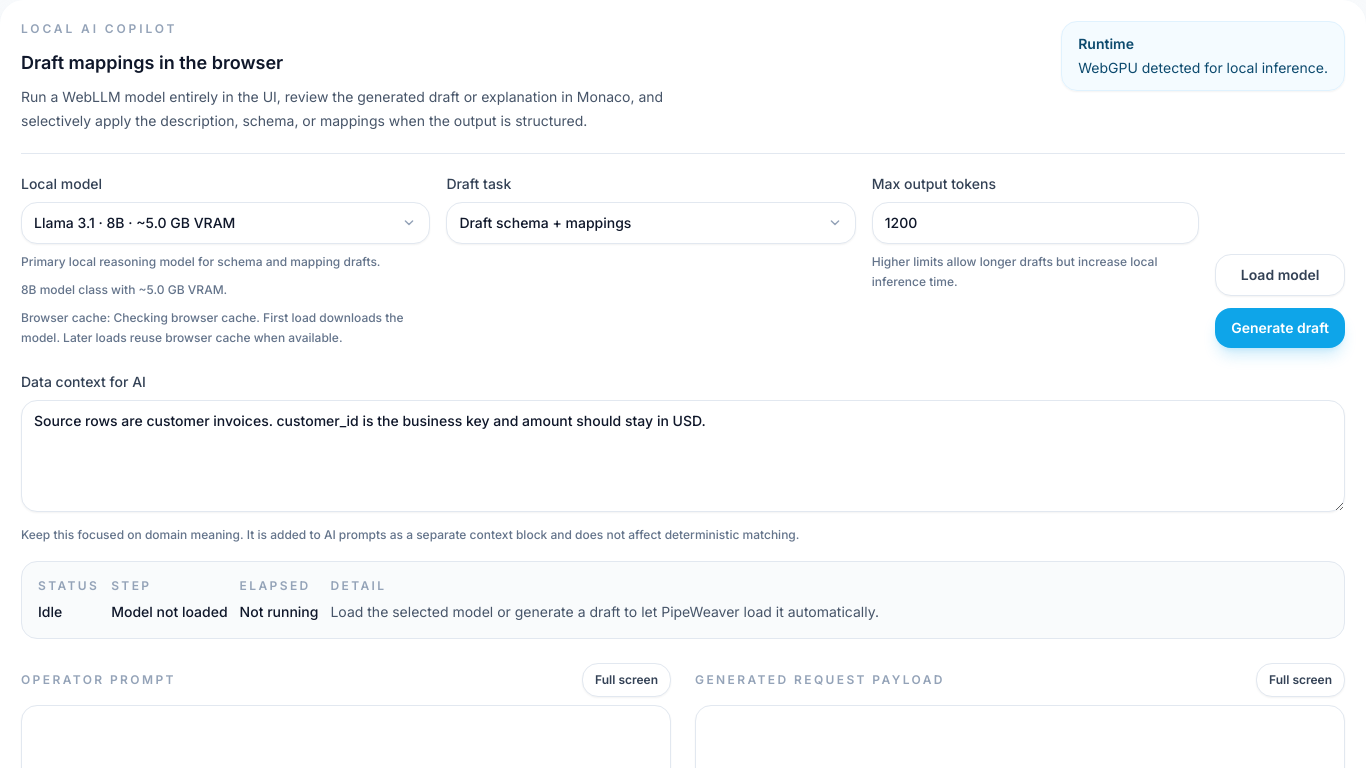
formats long elapsed generation durations in minutes and seconds
What coordinates should you click on to do the following:
click the button with test id "ai-generate-button"
I would click on:
 (1280, 328)
Its box is [1215,308,1345,348].
Wait 125000 ms
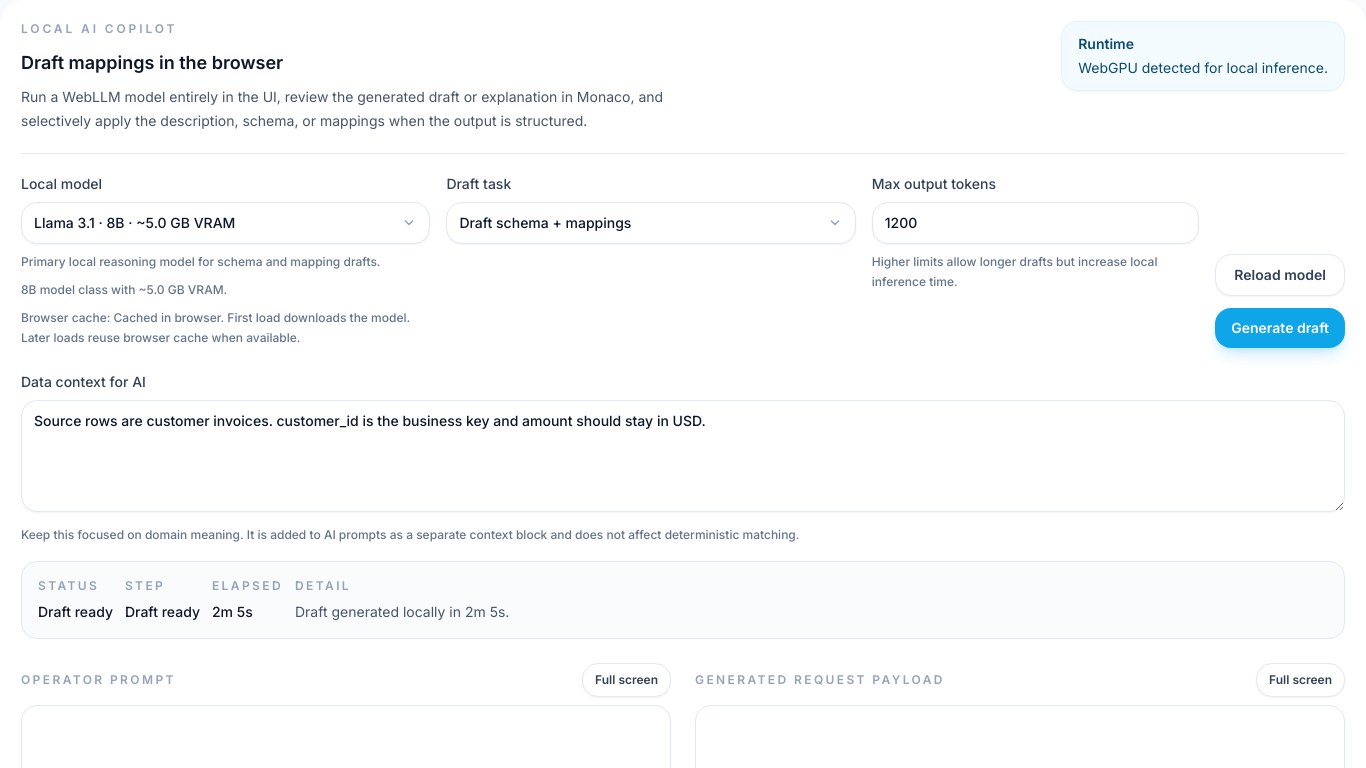
Expected: the text "2m 5s" is shown, [212,603,253,620]
